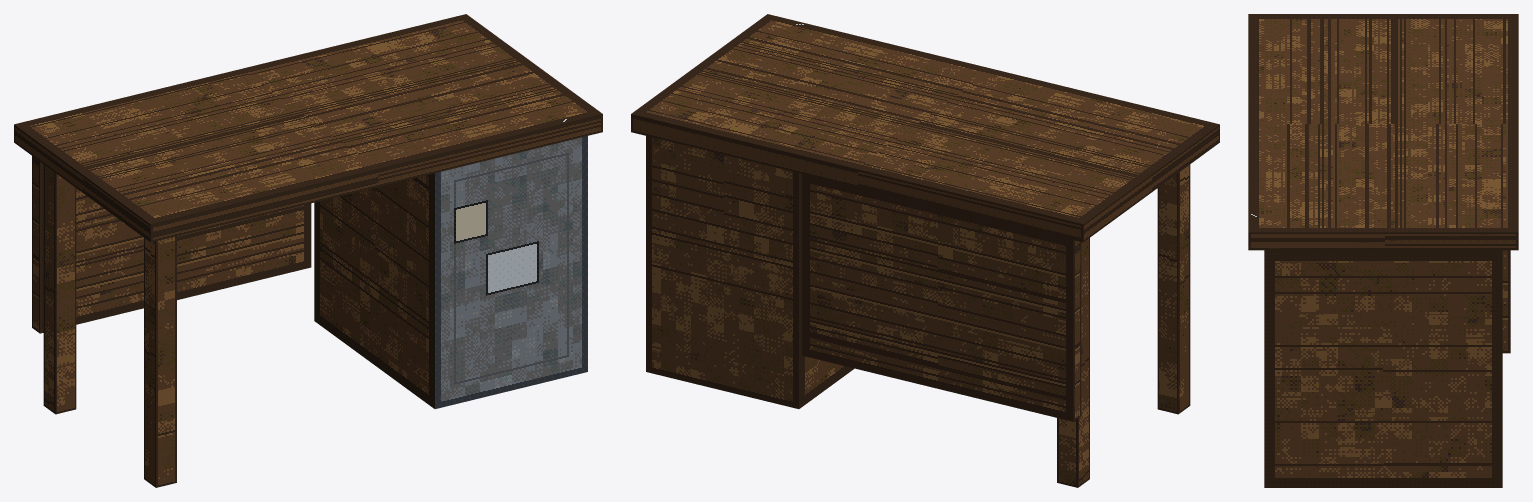
The model's file is SM_Desk_Wood_01.glb.
The picture shows the model from 3 angles, left to right: view 1: azimuth 30°, elevation 25°; view 2: azimuth 150°, elevation 25°; view 3: azimuth 270°, elevation 25°; orthographic projection.
Parts seen in each view (by area): view 1: SM_Desk_Wood_01; view 2: SM_Desk_Wood_01; view 3: SM_Desk_Wood_01.
Part boxes in pixels (x1,y1,x2,y2): SM_Desk_Wood_01: (14, 14, 602, 487); SM_Desk_Wood_01: (631, 14, 1219, 487); SM_Desk_Wood_01: (1248, 14, 1518, 487).
Bounding box in the file's own units: 1.3 × 0.76 × 0.68.
1 material, 1 textured.
